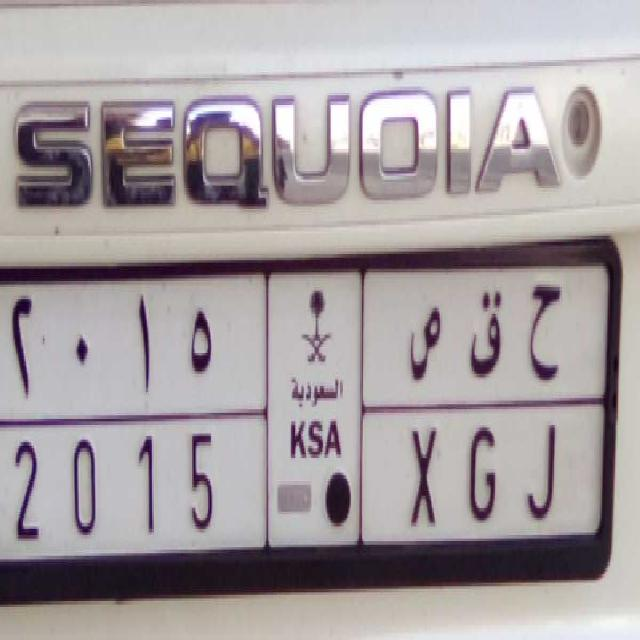license_plate: (0, 407, 603, 558)
